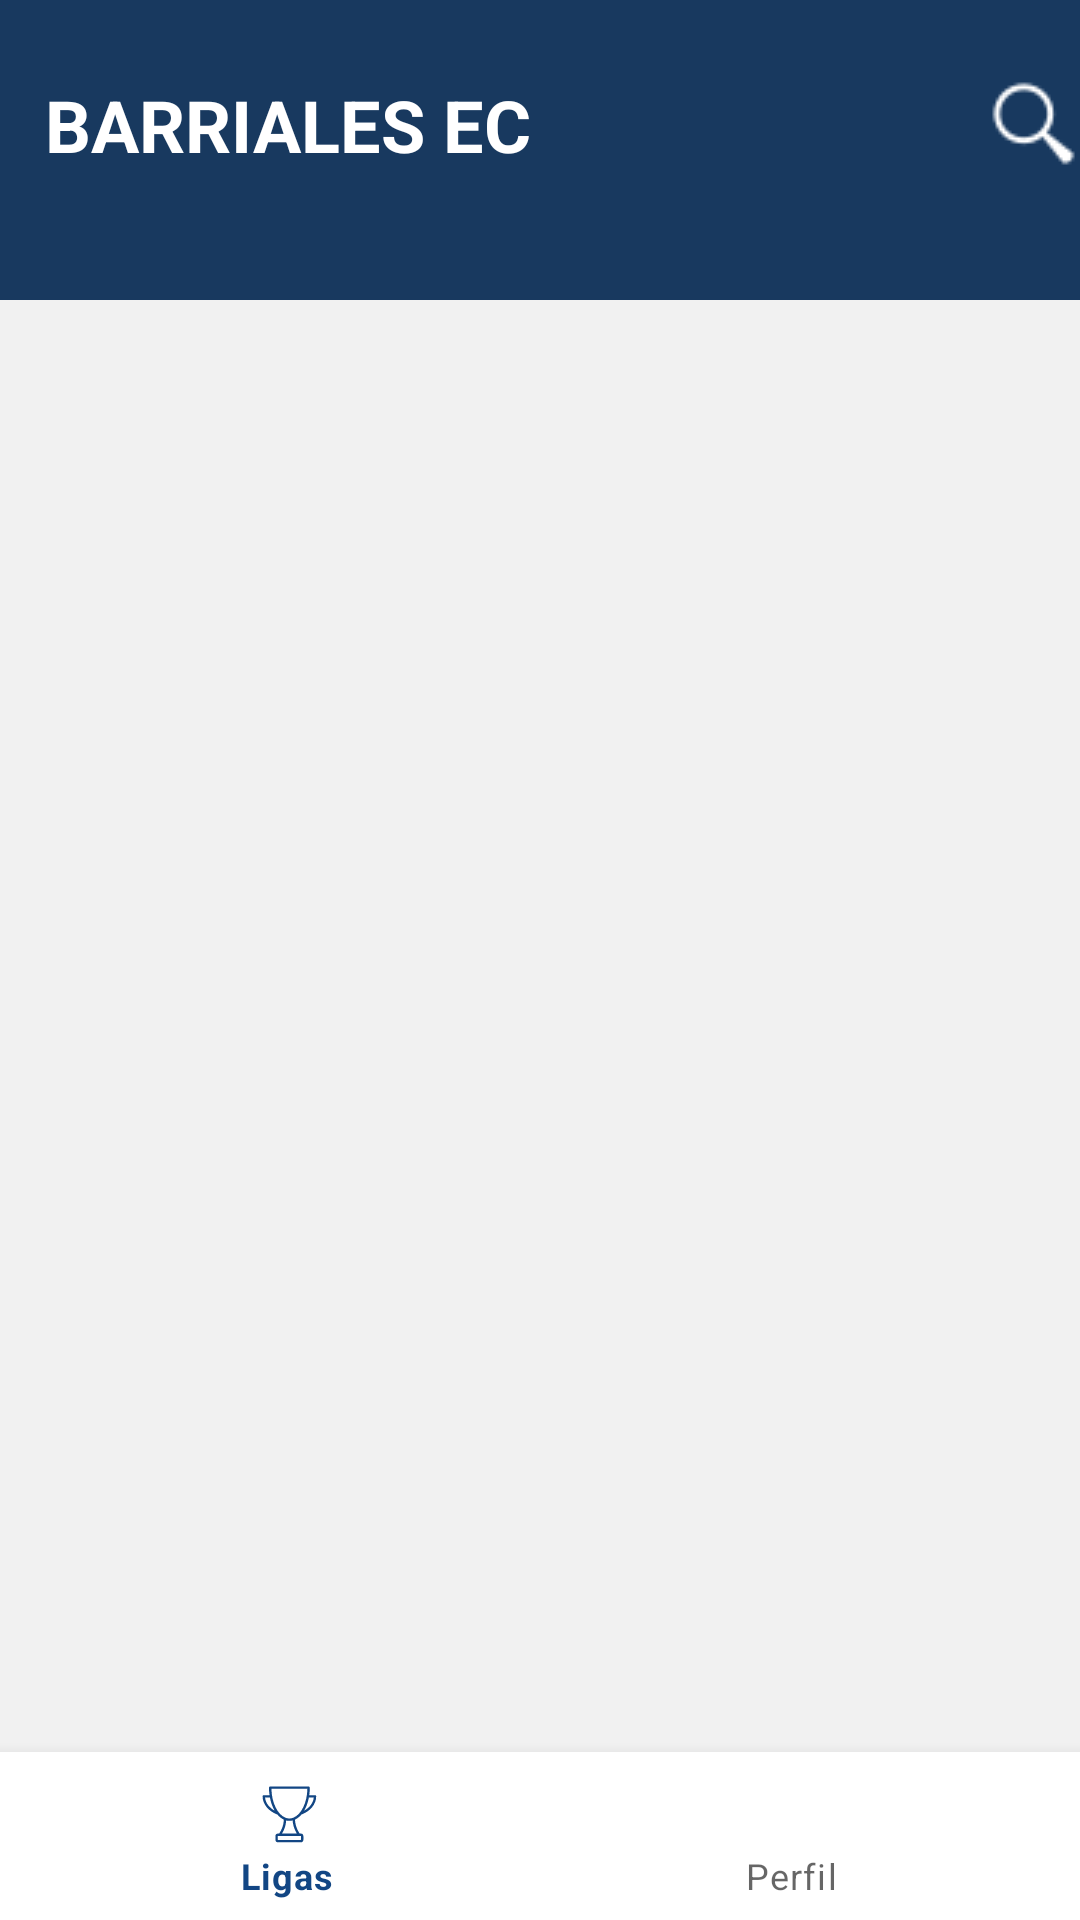

Icon bounding boxes for this 1080px x 1920px phone screenshot, format [x1=x1, y1=y1, x2=x2, y2=y2]:
lupa: [x1=992, y1=82, x2=1075, y2=165]
